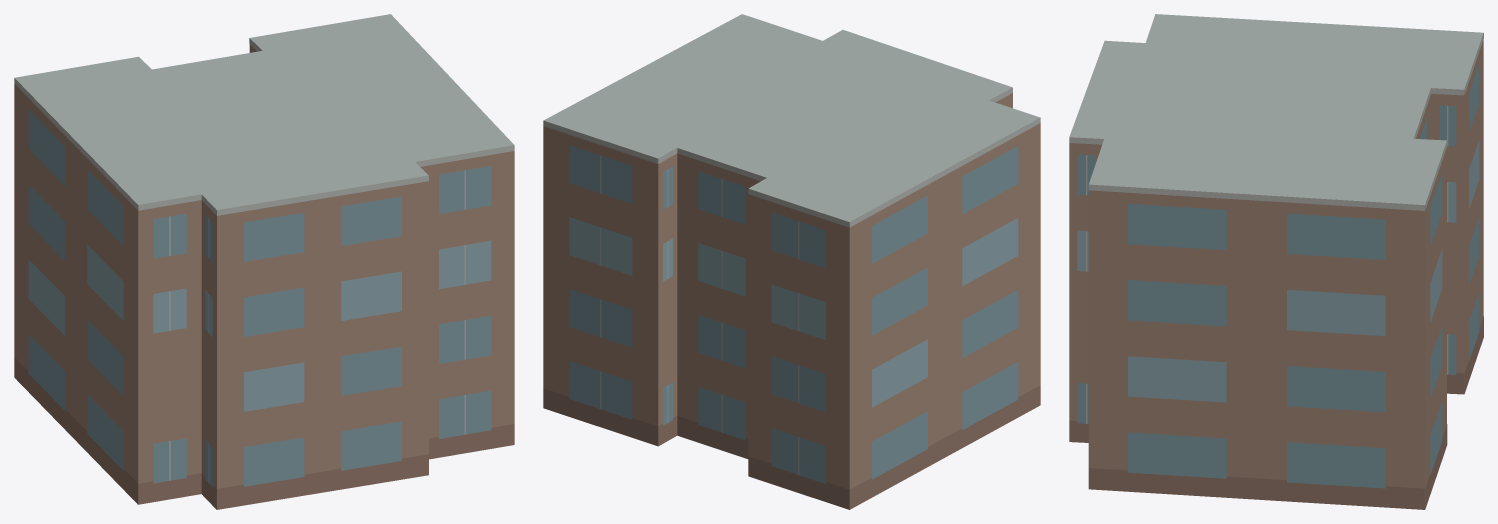
The model's file is survey-upis-32684269.glb.
3 renders of one model, left to right at view 1: azimuth 30°, elevation 25°; view 2: azimuth 150°, elevation 25°; view 3: azimuth 270°, elevation 25°, orthographic. The views are drawn at different scales.
Parts seen in each view (by area): view 1: survey-upis-32684269.tmp; view 2: survey-upis-32684269.tmp; view 3: survey-upis-32684269.tmp.
Boxes of the visible parts, x1,y1,x2,y2 form: survey-upis-32684269.tmp: (14, 14, 514, 509); survey-upis-32684269.tmp: (543, 14, 1040, 509); survey-upis-32684269.tmp: (1069, 14, 1483, 509).
Bounding box in the file's own units: 17.38 × 12.91 × 15.93.
